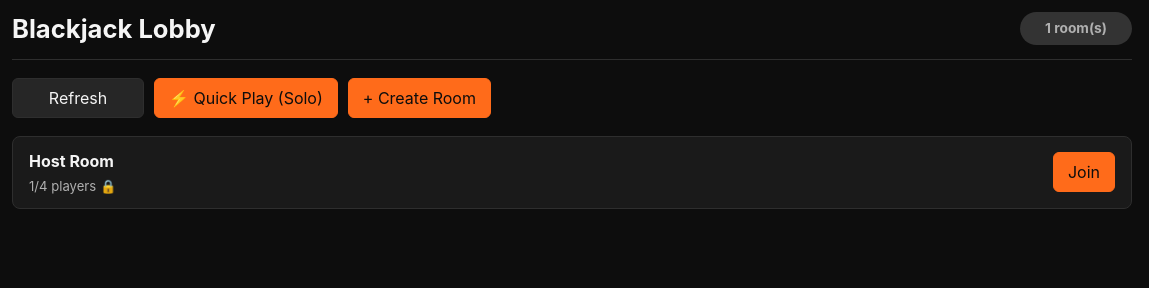
Test: Area 4 - server error responses surface the server message › 403 wrong password on join shows the server reason to the user
The image size is (1149, 288).
Click the button "Join" at (1084, 172), box [1053,152,1115,192]
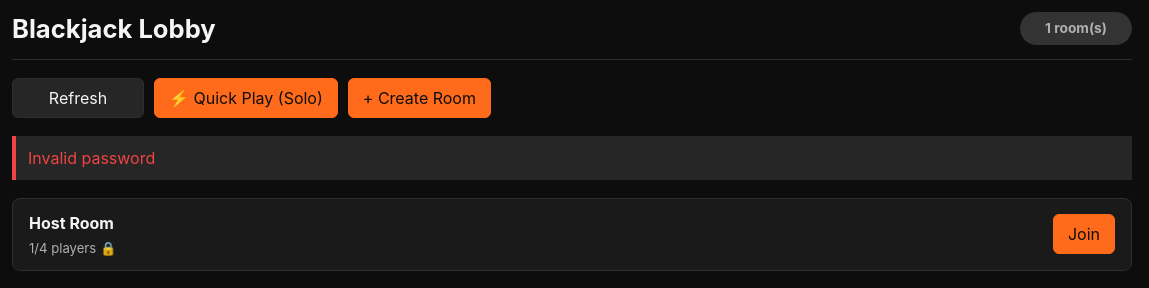
Expected: the button "Join" is enabled, [1053,214,1115,254]
Now the message reads "Invalid password", box [28,148,155,168]
